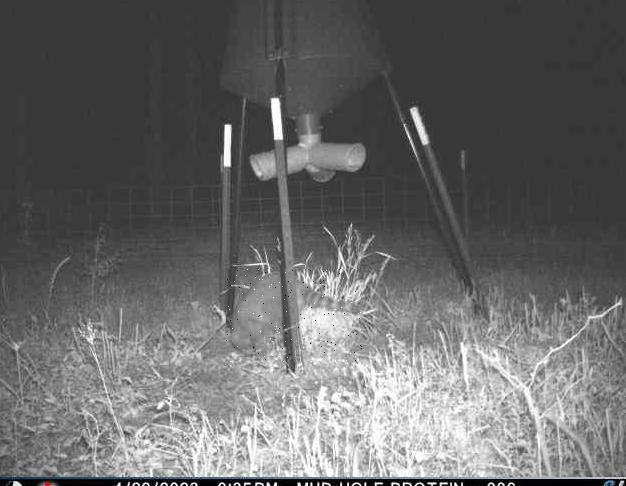Raccoon: (227, 269, 363, 362)
